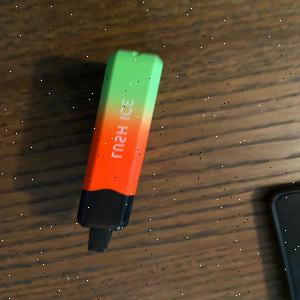Swift-E-Ciggirate: (57, 46, 172, 252)
